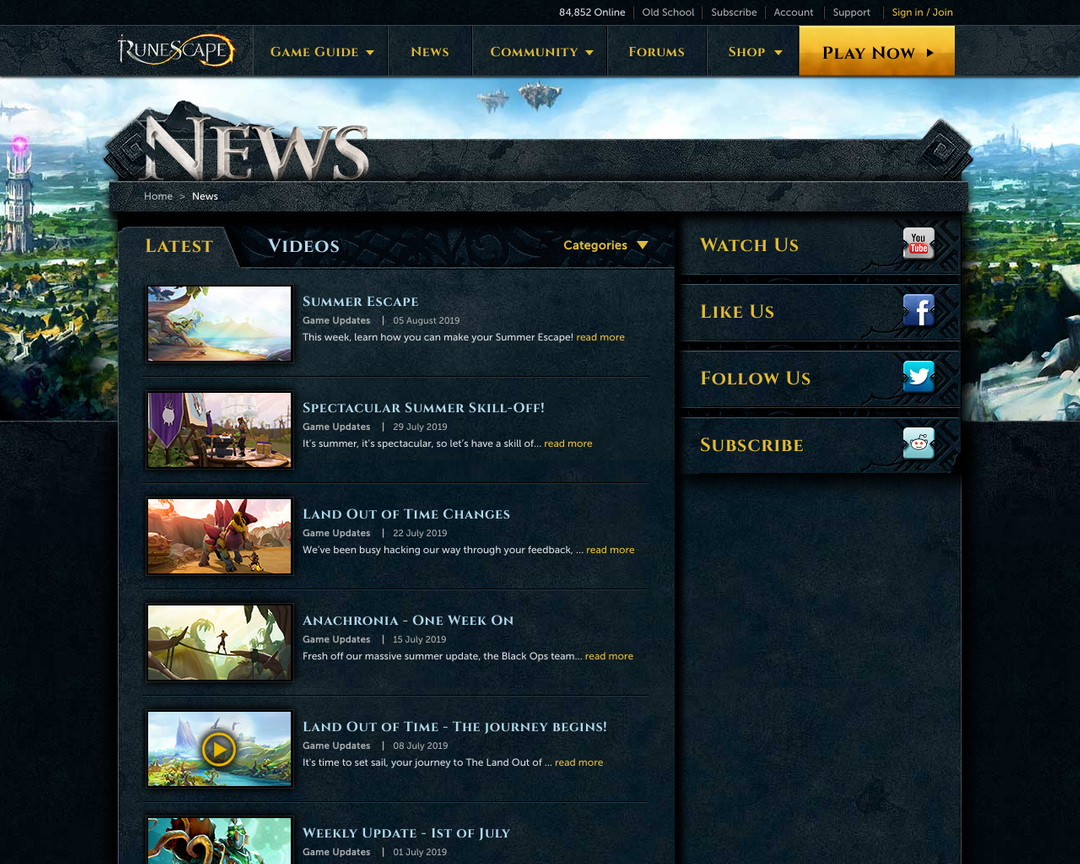Runescape: (111, 29, 238, 70)
